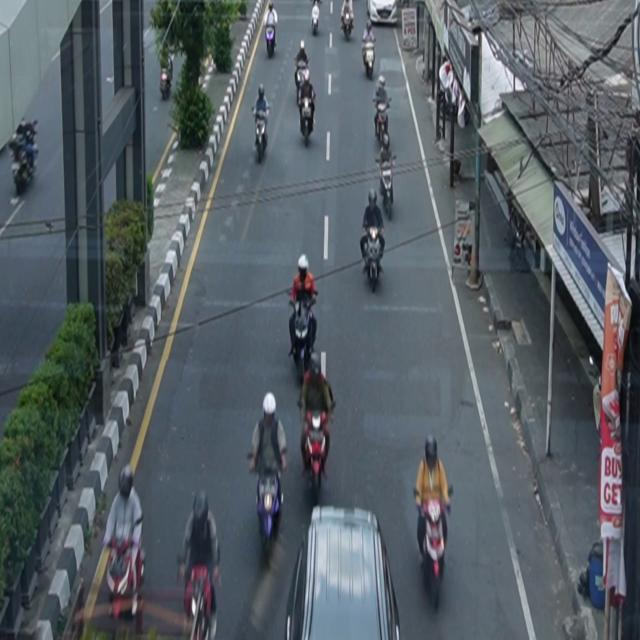car: (285, 506, 402, 640)
